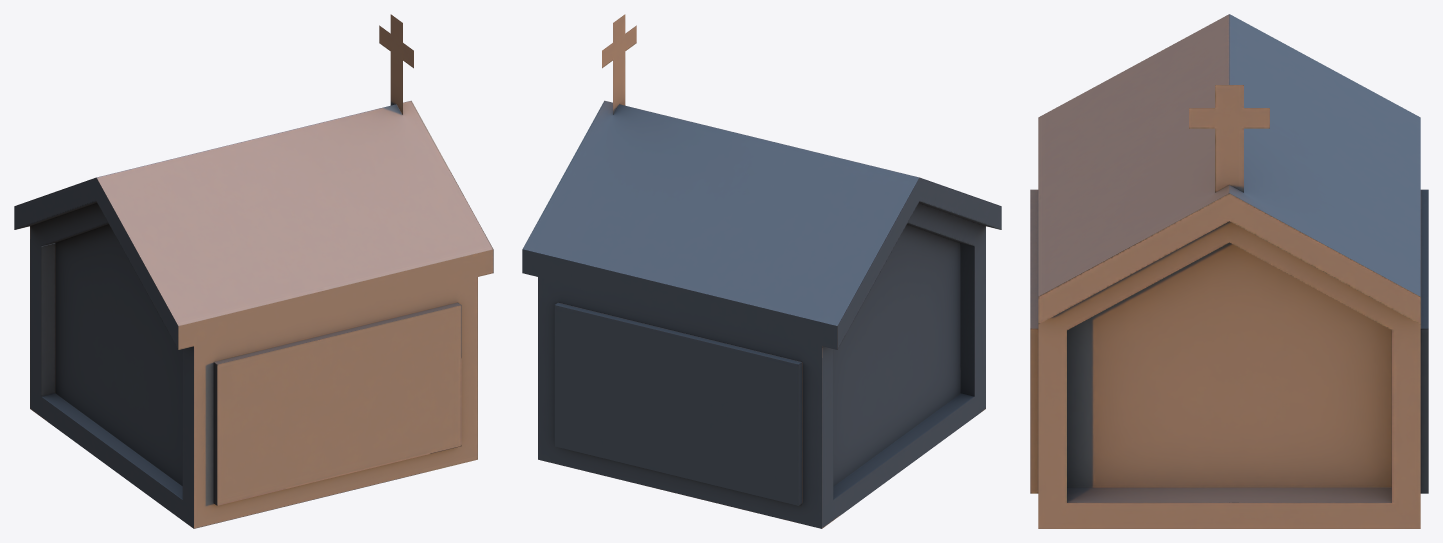
Rendered from 03mid.glb.
3 renders of one model, left to right at view 1: azimuth 30°, elevation 25°; view 2: azimuth 150°, elevation 25°; view 3: azimuth 270°, elevation 25°, orthographic. The views are drawn at different scales.
Parts seen in each view (by area): view 1: Tombe3 mid; view 2: Tombe3 mid; view 3: Tombe3 mid.
Part boxes in pixels (x1=…): Tombe3 mid: x1=14, y1=14, x2=493, y2=528; Tombe3 mid: x1=522, y1=14, x2=1001, y2=528; Tombe3 mid: x1=1030, y1=14, x2=1428, y2=528.
Bounding box in the file's own units: 2.22 × 2.56 × 2.08.
Materials: 1 (1 with a texture image).
